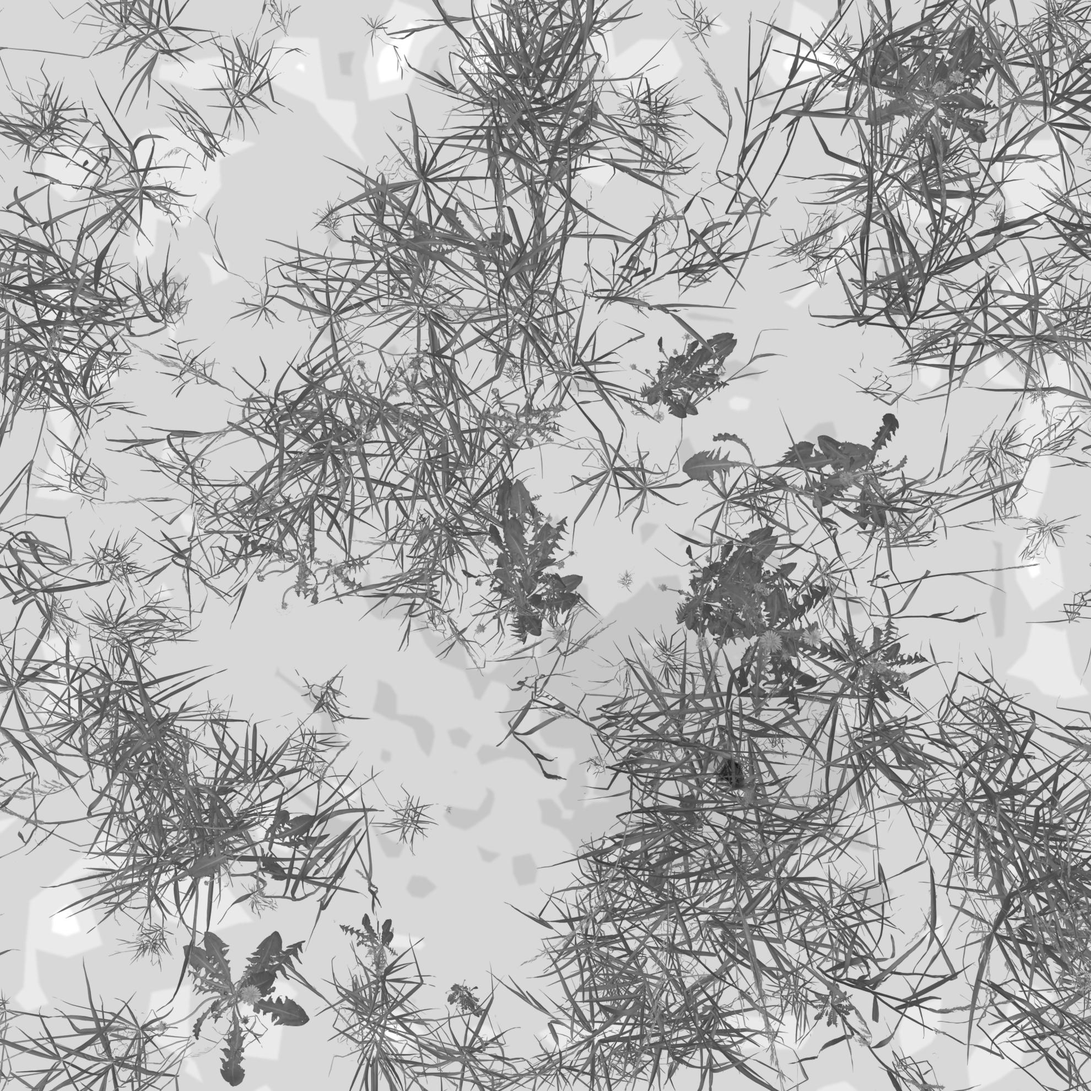landmine: (698, 750, 747, 791)
